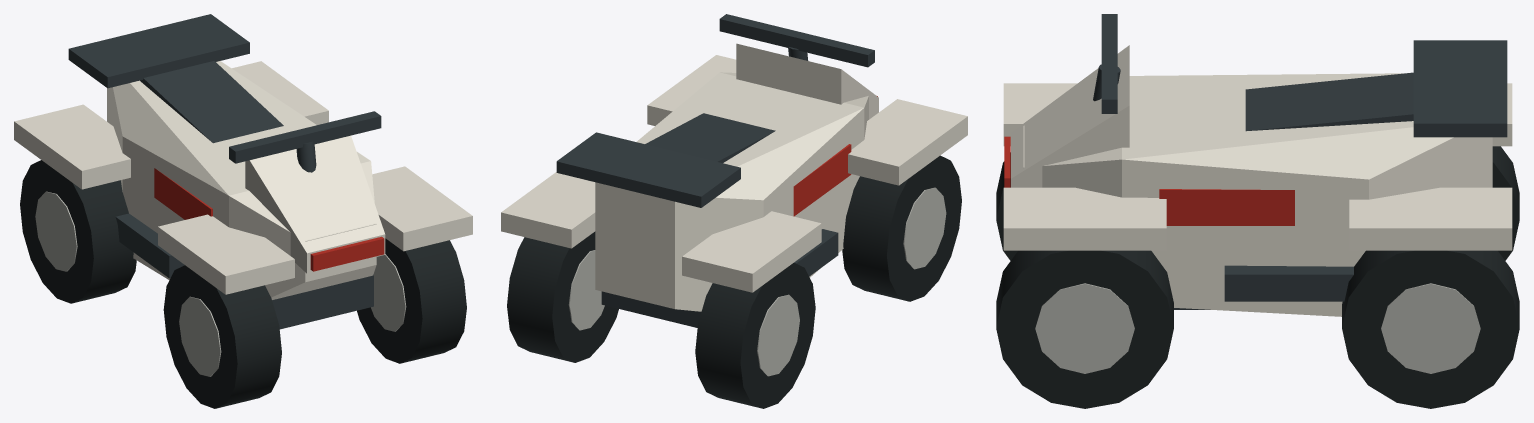
3 views of the same model, side by side, from view 1: azimuth 30°, elevation 25°; view 2: azimuth 150°, elevation 25°; view 3: azimuth 270°, elevation 25° (orthographic). The views are drawn at different scales.
Parts seen in each view (by area): view 1: atv-fleet-armor, atv-fleet-machine, wheel--1-0.7-fleet-rubber, wheel--1--0.7-fleet-rubber, wheel-1-0.7-fleet-rubber, steering-fleet-machine, atv-fleet-red, wheel--1-0.7-fleet-edge, wheel--1--0.7-fleet-edge, wheel-1-0.7-fleet-edge; view 2: atv-fleet-armor, atv-fleet-machine, wheel--1--0.7-fleet-rubber, wheel--1-0.7-fleet-rubber, wheel-1--0.7-fleet-rubber, steering-fleet-machine, wheel--1-0.7-fleet-edge, wheel--1--0.7-fleet-edge, wheel-1--0.7-fleet-edge, atv-fleet-red; view 3: atv-fleet-armor, atv-fleet-machine, wheel-1-0.7-fleet-rubber, wheel-1--0.7-fleet-rubber, wheel-1--0.7-fleet-edge, wheel-1-0.7-fleet-edge, atv-fleet-red, steering-fleet-machine, wheel--1--0.7-fleet-rubber, wheel--1-0.7-fleet-rubber.
Part boxes in pixels (left/top/right/bottom): atv-fleet-armor: left=14, top=61, right=472, bottom=299; atv-fleet-machine: left=68, top=14, right=373, bottom=329; wheel--1-0.7-fleet-rubber: left=163, top=265, right=281, bottom=408; wheel--1--0.7-fleet-rubber: left=20, top=160, right=136, bottom=303; wheel-1-0.7-fleet-rubber: left=357, top=238, right=466, bottom=363; steering-fleet-machine: left=229, top=111, right=381, bottom=172; atv-fleet-red: left=154, top=168, right=384, bottom=271; wheel--1-0.7-fleet-edge: left=179, top=296, right=221, bottom=376; wheel--1--0.7-fleet-edge: left=35, top=191, right=77, bottom=271; wheel-1-0.7-fleet-edge: left=371, top=254, right=406, bottom=331; atv-fleet-armor: left=501, top=43, right=967, bottom=311; atv-fleet-machine: left=556, top=113, right=838, bottom=327; wheel--1--0.7-fleet-rubber: left=695, top=263, right=815, bottom=408; wheel--1-0.7-fleet-rubber: left=842, top=155, right=961, bottom=301; wheel-1--0.7-fleet-rubber: left=507, top=231, right=618, bottom=362; steering-fleet-machine: left=719, top=14, right=874, bottom=67; wheel--1-0.7-fleet-edge: left=903, top=187, right=946, bottom=269; wheel--1--0.7-fleet-edge: left=757, top=294, right=799, bottom=376; wheel-1--0.7-fleet-edge: left=568, top=250, right=604, bottom=330; atv-fleet-red: left=793, top=96, right=877, bottom=216; atv-fleet-armor: left=1003, top=45, right=1512, bottom=316; atv-fleet-machine: left=1174, top=40, right=1507, bottom=309; wheel-1-0.7-fleet-rubber: left=996, top=250, right=1173, bottom=408; wheel-1--0.7-fleet-rubber: left=1342, top=250, right=1519, bottom=408; wheel-1--0.7-fleet-edge: left=1381, top=283, right=1480, bottom=373; wheel-1-0.7-fleet-edge: left=1035, top=283, right=1134, bottom=373; atv-fleet-red: left=1004, top=136, right=1294, bottom=225; steering-fleet-machine: left=1093, top=14, right=1120, bottom=113; wheel--1--0.7-fleet-rubber: left=1492, top=146, right=1519, bottom=260; wheel--1-0.7-fleet-rubber: left=996, top=152, right=1017, bottom=260.
Size of the model in its own units: 7.59 by 6.95 by 11.58.
